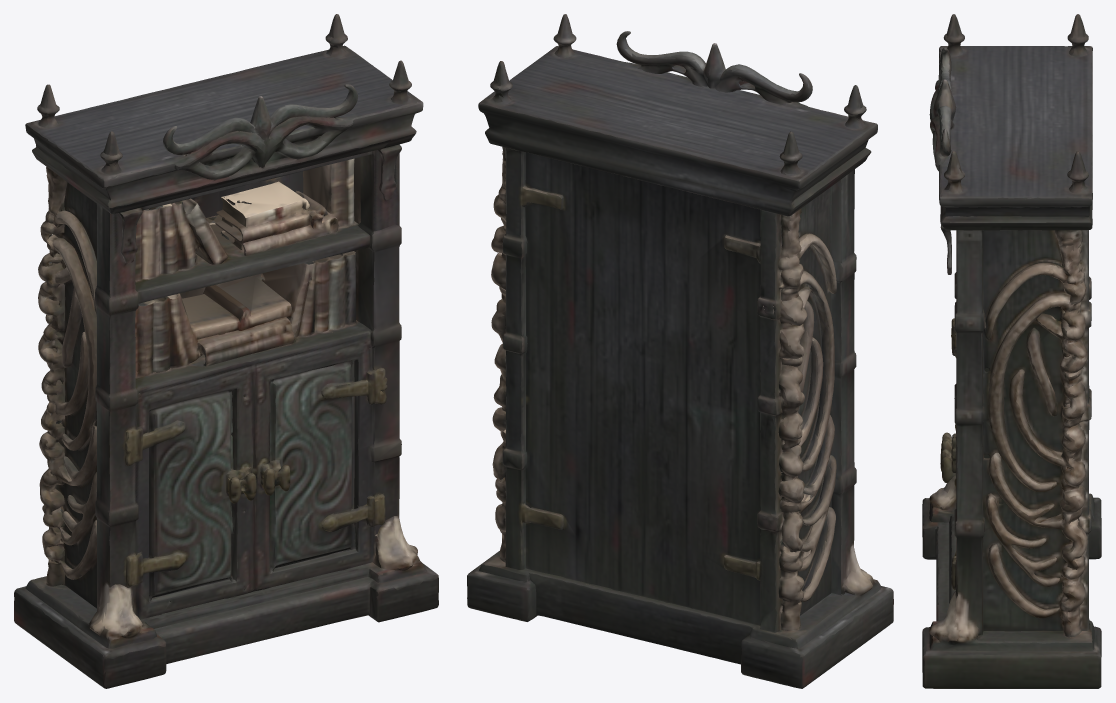
The model's file is bookcase-optimized.glb.
The picture shows the model from 3 angles, left to right: view 1: azimuth 30°, elevation 25°; view 2: azimuth 150°, elevation 25°; view 3: azimuth 270°, elevation 25°; orthographic projection. The views are drawn at different scales.
Visible parts, largest first — view 1: geometry_0; view 2: geometry_0; view 3: geometry_0.
Part boxes in pixels (bbox=[...]): geometry_0: bbox=[14, 14, 438, 688]; geometry_0: bbox=[467, 14, 893, 688]; geometry_0: bbox=[922, 14, 1101, 688].
Bounding box in the file's own units: 1.03 × 1.6 × 0.4895.
Materials: 1 (1 with a texture image).
